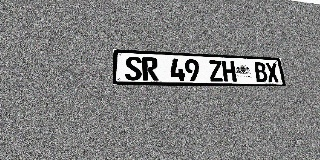plate: (113, 49, 286, 86)
